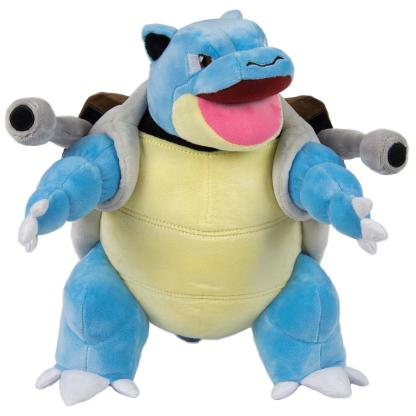Blastoise: (1, 1, 416, 416), (1, 2, 416, 403)
